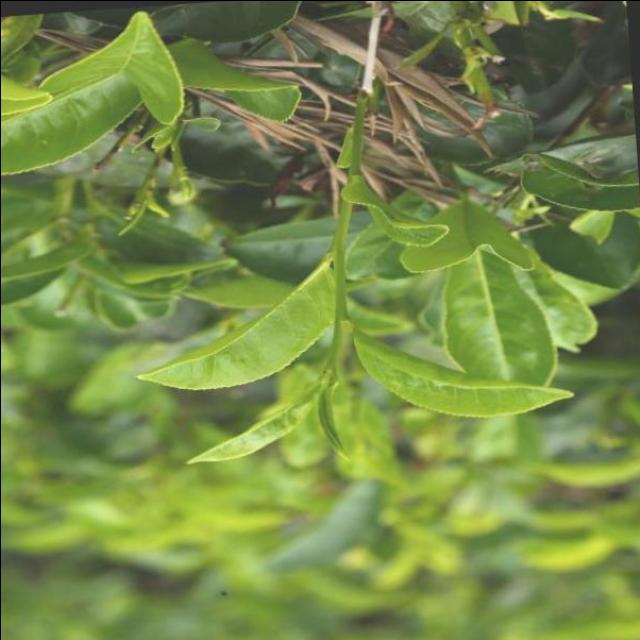Stem: (323, 360, 336, 371)
